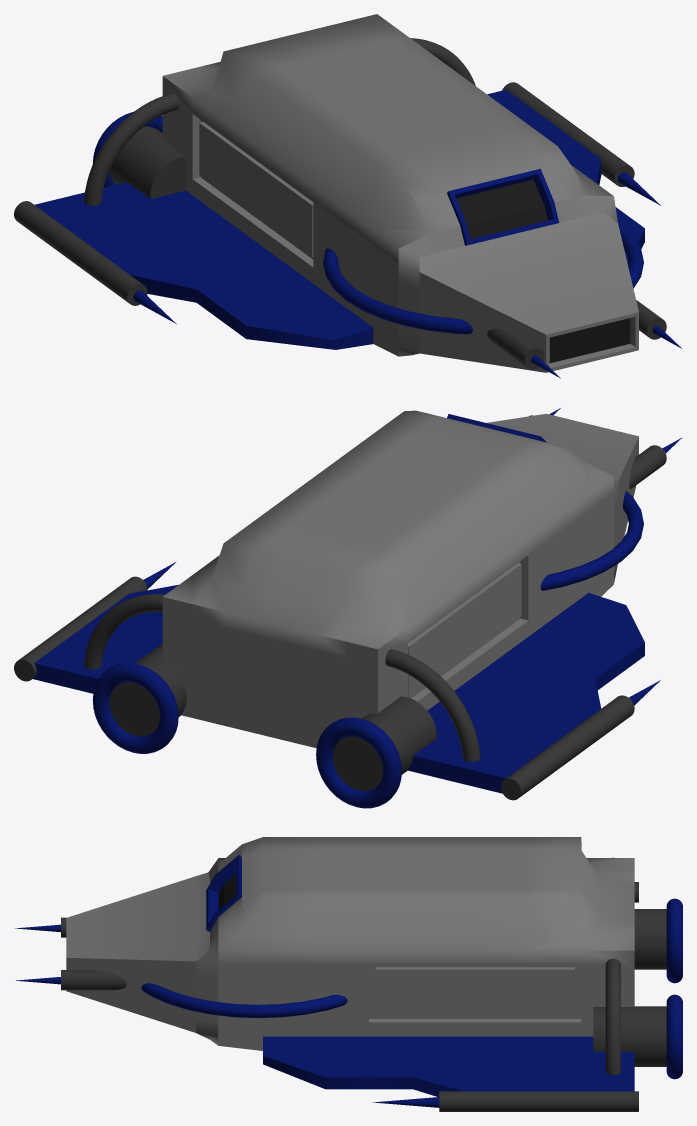
File: Spaceship.fbx
3 renders of one model, top to bottom at view 1: azimuth 30°, elevation 25°; view 2: azimuth 150°, elevation 25°; view 3: azimuth 270°, elevation 25°, orthographic. The views are drawn at different scales.
Visible parts, largest first — view 1: Cube, Cylinder, Cylinder_2, Torus, Torus_1_2, Cylinder_3, Cone, Torus_1; view 2: Cube, Cylinder_2, Torus_1, Cylinder, Torus_1_2, Torus, Cylinder_3; view 3: Cube, Cylinder_2, Cylinder, Torus, Torus_1, Torus_1_2, Cylinder_3.
Part boxes in pixels (box(x1,y1,x2,y2)): Cube: box(34, 14, 644, 372); Cylinder: box(14, 82, 634, 305); Cylinder_2: box(109, 126, 185, 198); Torus: box(323, 223, 643, 334); Torus_1_2: box(84, 38, 475, 205); Cylinder_3: box(487, 300, 666, 369); Cone: box(133, 172, 660, 323); Torus_1: box(92, 111, 162, 187); Cube: box(33, 410, 644, 793); Cylinder_2: box(109, 644, 436, 790); Torus_1: box(92, 663, 401, 808); Cylinder: box(14, 576, 634, 800); Torus_1_2: box(84, 594, 480, 761); Torus: box(540, 491, 643, 590); Cylinder_3: box(529, 415, 666, 489); Cube: box(66, 837, 634, 1096); Cylinder_2: box(593, 909, 666, 1066); Cylinder: box(439, 882, 638, 1111); Torus: box(141, 983, 347, 1018); Torus_1: box(666, 898, 682, 1079); Torus_1_2: box(605, 857, 620, 1075); Cylinder_3: box(61, 917, 126, 990).
Size of the model in its own units: 298 by 100 by 387.
